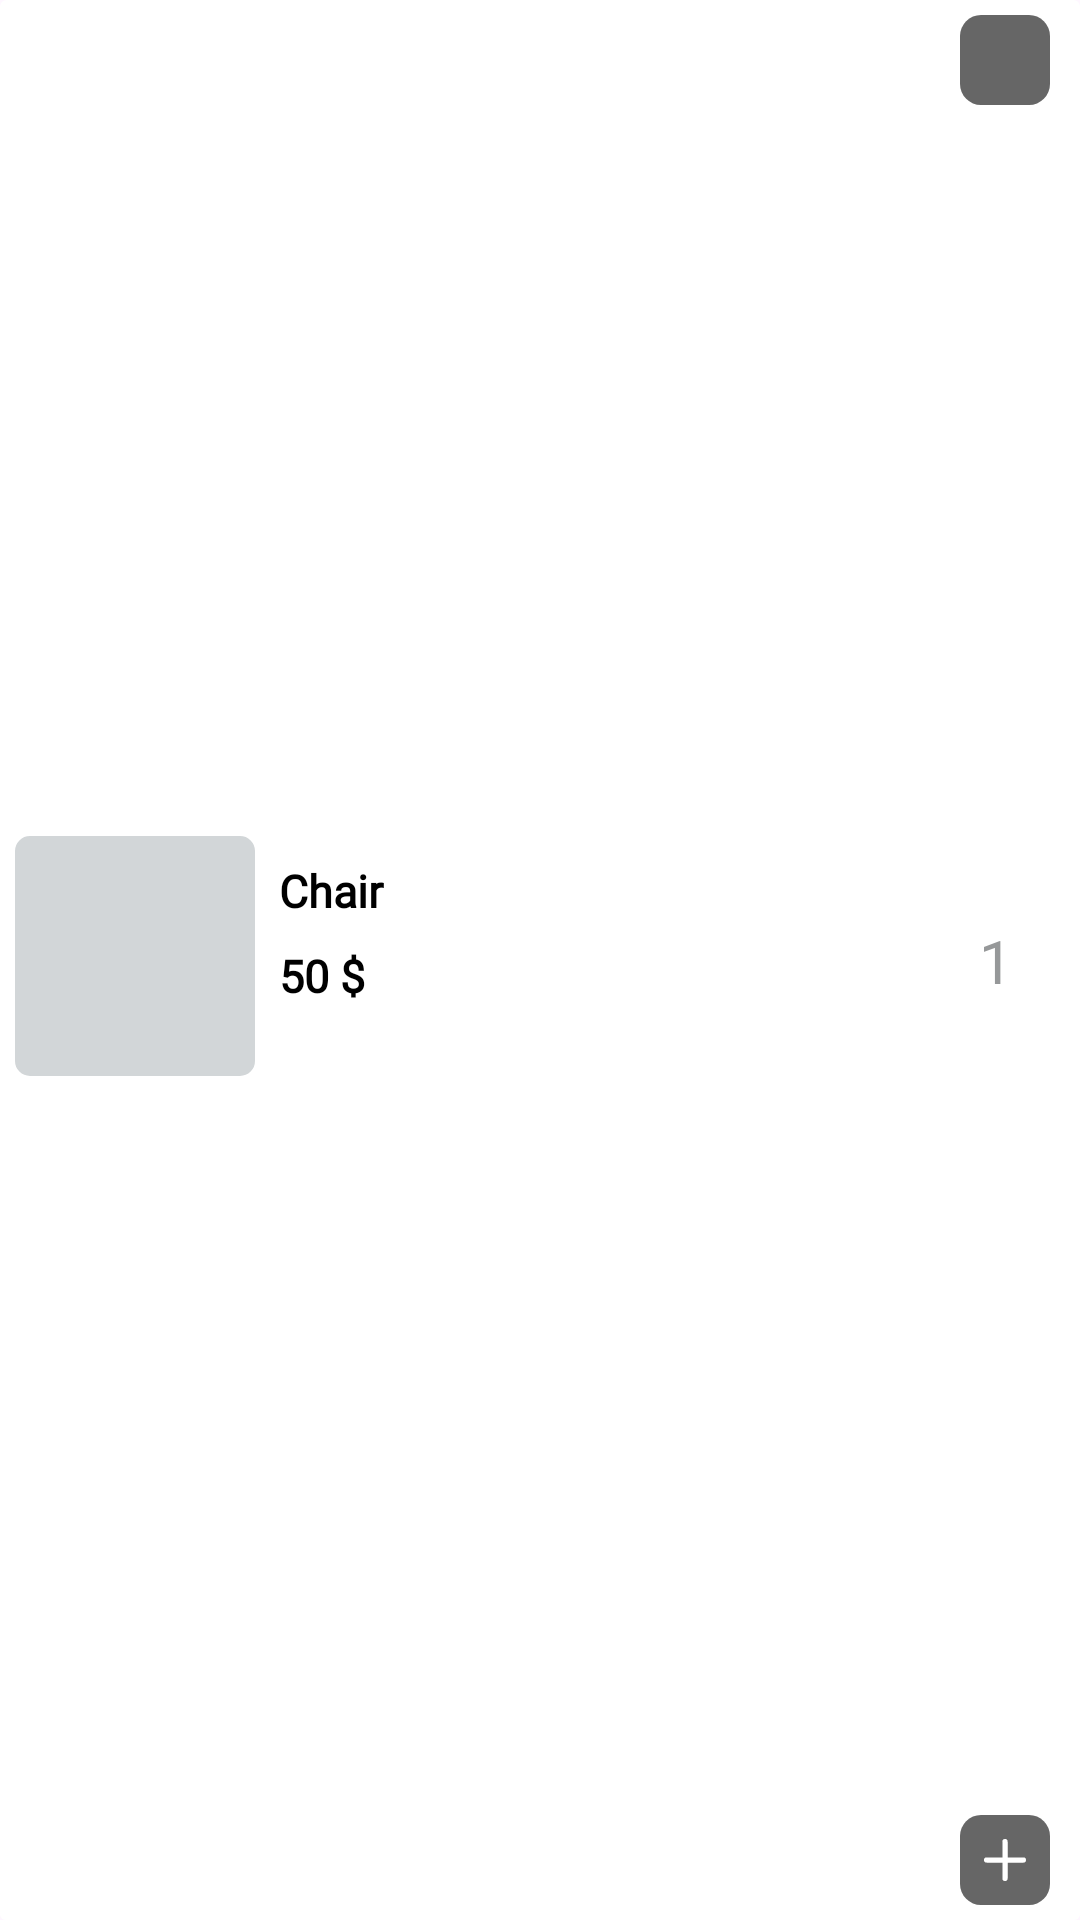

Named icons in this screenshot (1080px×1920px) and their bounding boxes, BBox(x1, y1, x2, y2):
add: BBox(960, 1815, 1050, 1905)
